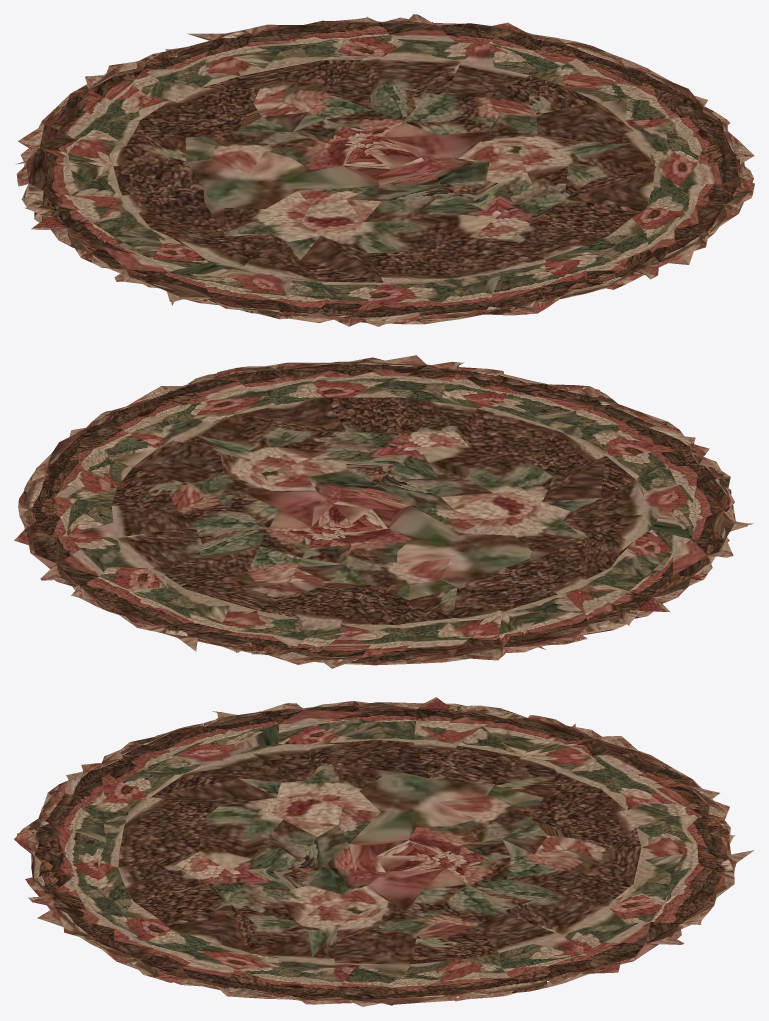
The model's file is up_rug_round.glb.
3 renders of one model, top to bottom at view 1: azimuth 30°, elevation 25°; view 2: azimuth 150°, elevation 25°; view 3: azimuth 270°, elevation 25°, orthographic.
Visible parts, largest first — view 1: up_rug_round; view 2: up_rug_round; view 3: up_rug_round.
Part boxes in pixels (x1,y1,x2,y2): up_rug_round: [15, 14, 754, 326]; up_rug_round: [14, 355, 753, 668]; up_rug_round: [14, 697, 754, 1006].
Bounding box in the file's own units: 1.59 × 0.0061 × 1.61.
Materials: 1 (1 with a texture image).
